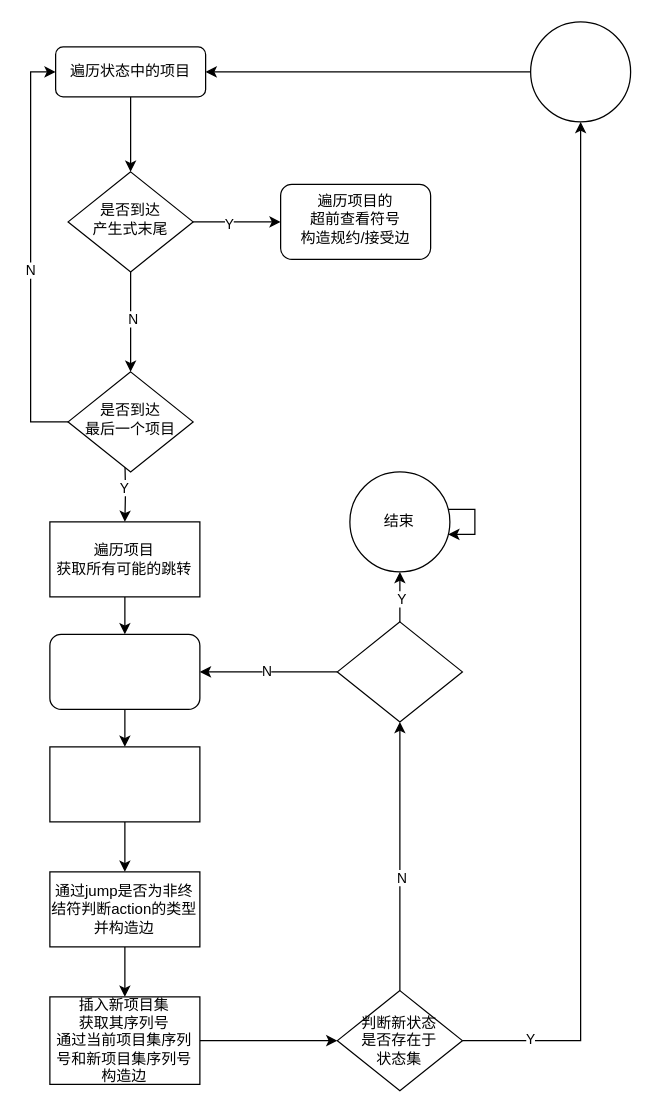
Image size: 653x1113. Some labels were removed from this diagram. The shapes that lost their labels are listed below. From the top down, each one's centre as x and y in pixels, then its label:
(x=580, y=71): 入口 从一个项目 开始
(x=124, y=671): 遍历可能的跳转
(x=399, y=671): 判断是否 跳转完成遍历
(x=124, y=784): 通过gotoState函数 获取满足跳转jump的 新状态
